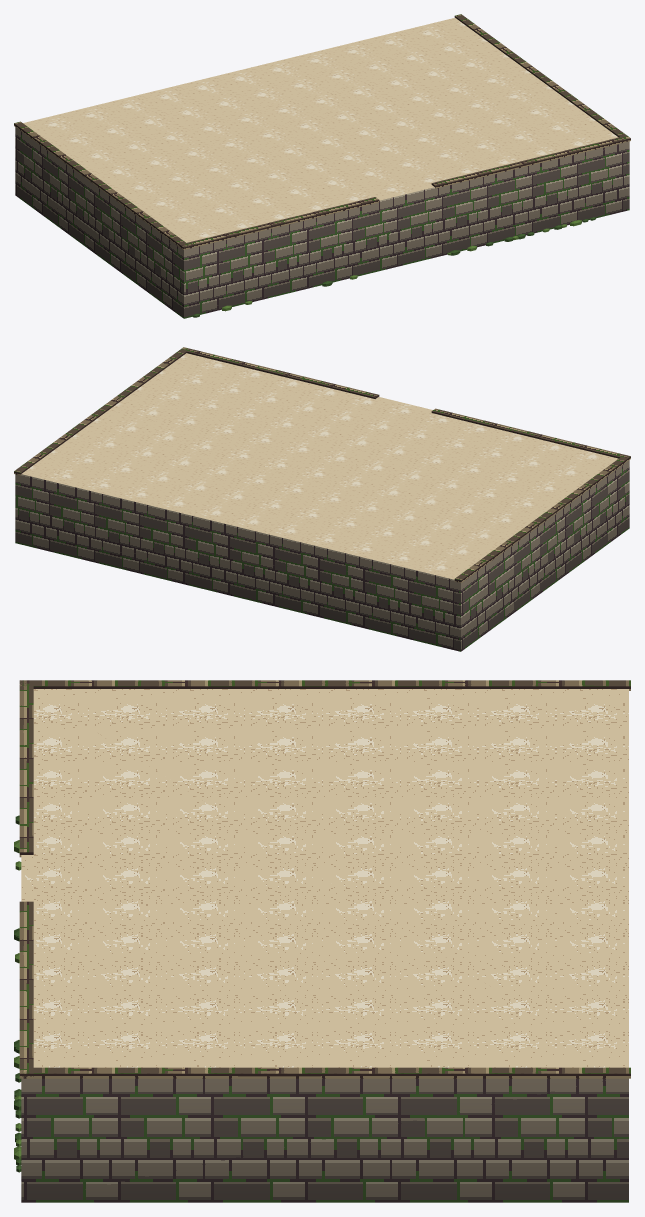
File: scene_plat_c9.glb
3 renders of one model, top to bottom at view 1: azimuth 30°, elevation 25°; view 2: azimuth 150°, elevation 25°; view 3: azimuth 270°, elevation 25°, orthographic. The views are drawn at different scales.
Parts seen in each view (by area): view 1: scene_plat_c9; view 2: scene_plat_c9; view 3: scene_plat_c9.
Part boxes in pixels (<box>): scene_plat_c9: <box>14,14,630,318</box>; scene_plat_c9: <box>14,347,630,651</box>; scene_plat_c9: <box>14,680,630,1202</box>.
Size of the model in its own units: 23.9 by 3.77 by 15.84.
3 materials, 2 textured.
